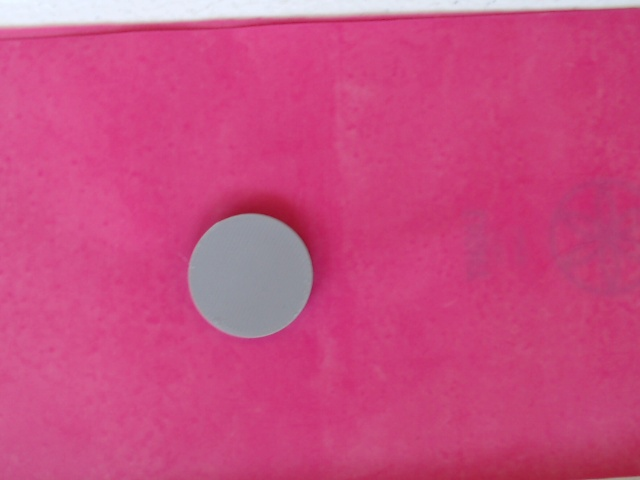NonDefective: (187, 212, 315, 342)
